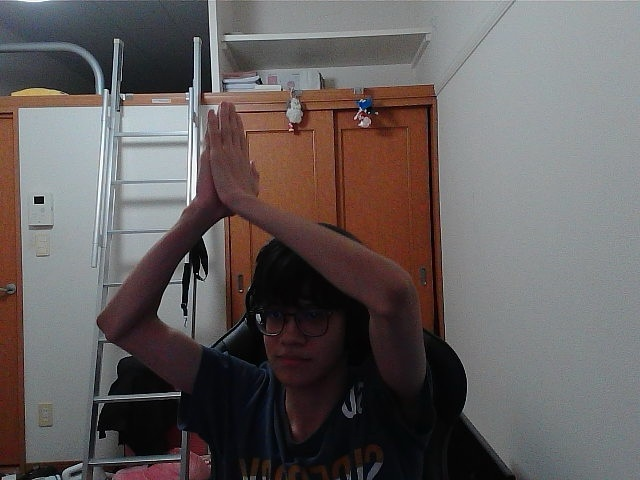pray: (211, 110, 244, 188)
